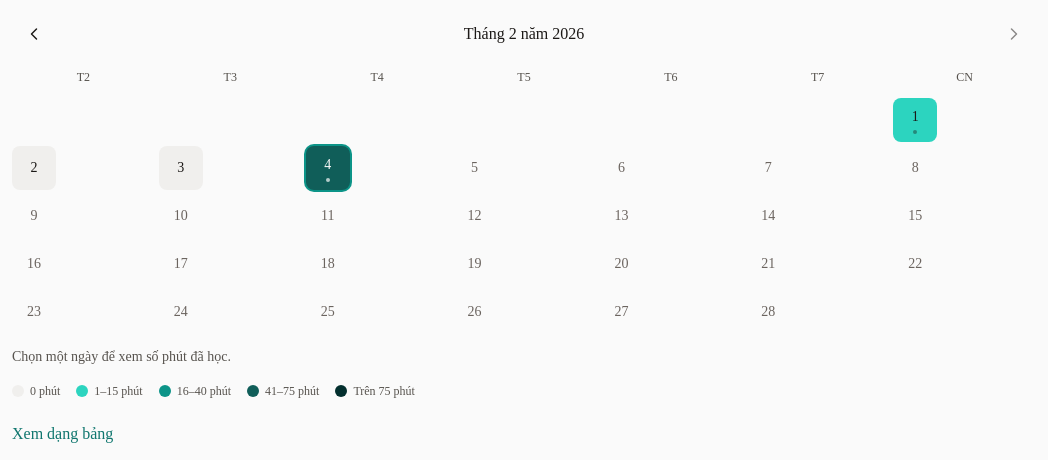
it: CalendarHeatmap — month view › pages months with the buttons, never past the current month
This screenshot has width=1048, height=460.
Expected: the button named "Tháng sau" is disabled, [992,12,1036,56]
Step 1. Click the button named "Tháng trước" → (34, 34), box [12,12,56,56]
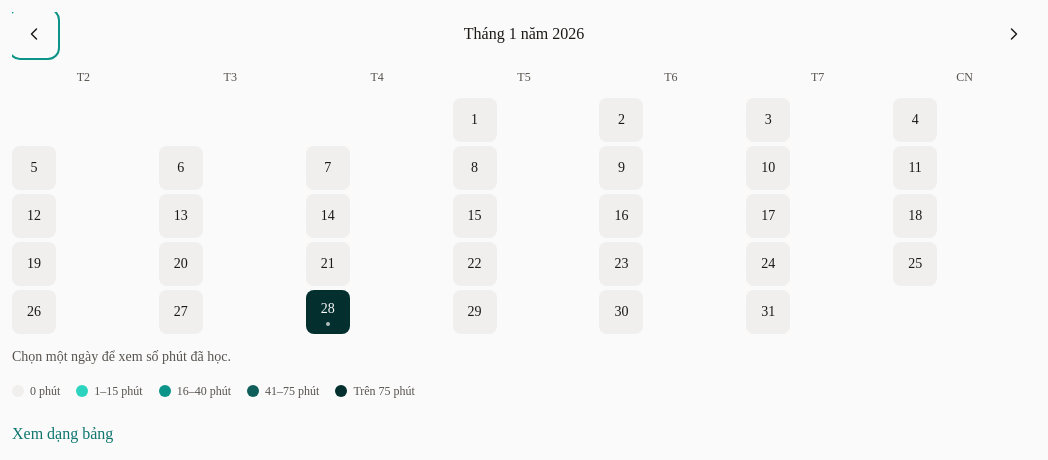
Result: the text "Tháng 1 năm 2026" is shown at [464,22,584,46]
Step 2. Click the button named "Tháng sau" → (1014, 34), box [992,12,1036,56]
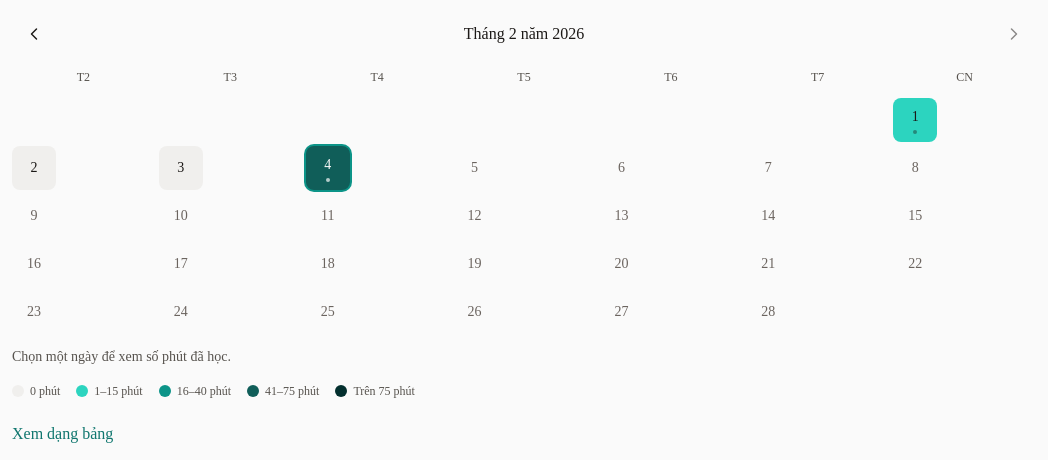
Result: the text "Tháng 2 năm 2026" is shown at [464,22,584,46]
